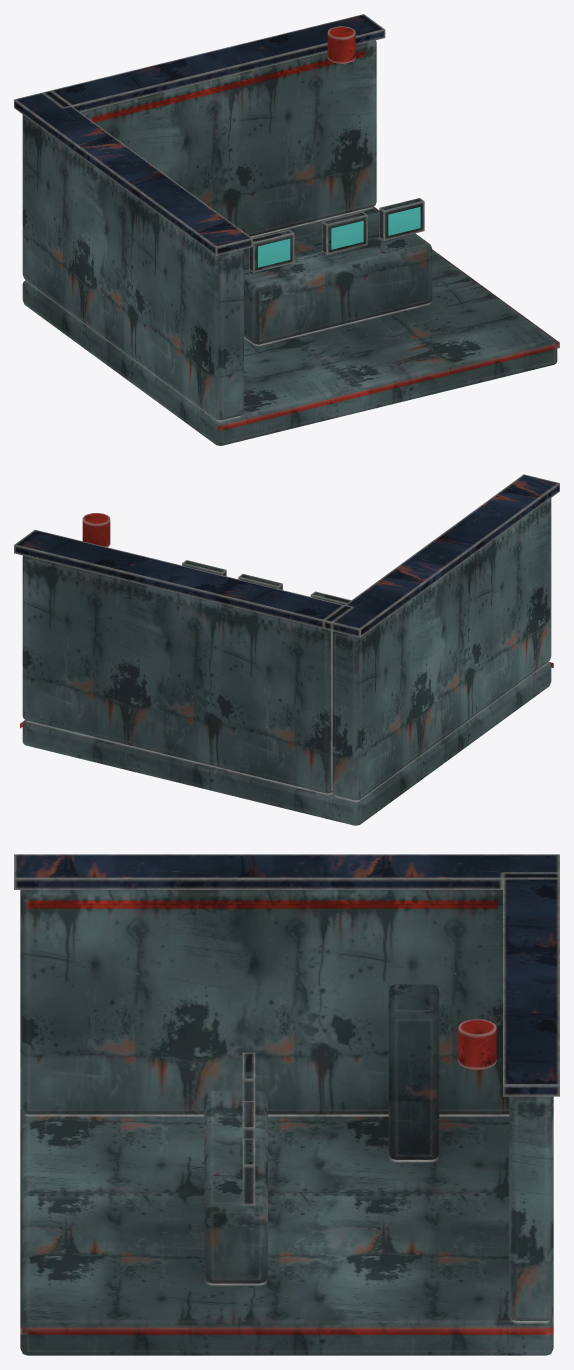
The model's file is guard_post.glb.
3 renders of one model, top to bottom at view 1: azimuth 30°, elevation 25°; view 2: azimuth 150°, elevation 25°; view 3: azimuth 270°, elevation 25°, orthographic. The views are drawn at different scales.
Visible parts, largest first — view 1: te_guard_post; view 2: te_guard_post; view 3: te_guard_post.
Part boxes in pixels (<box>): te_guard_post: <box>14,14,559,445</box>; te_guard_post: <box>14,474,559,825</box>; te_guard_post: <box>14,854,559,1355</box>.
Bounding box in the file's own units: 0.86 × 0.52 × 0.86.
1 material, 1 textured.
